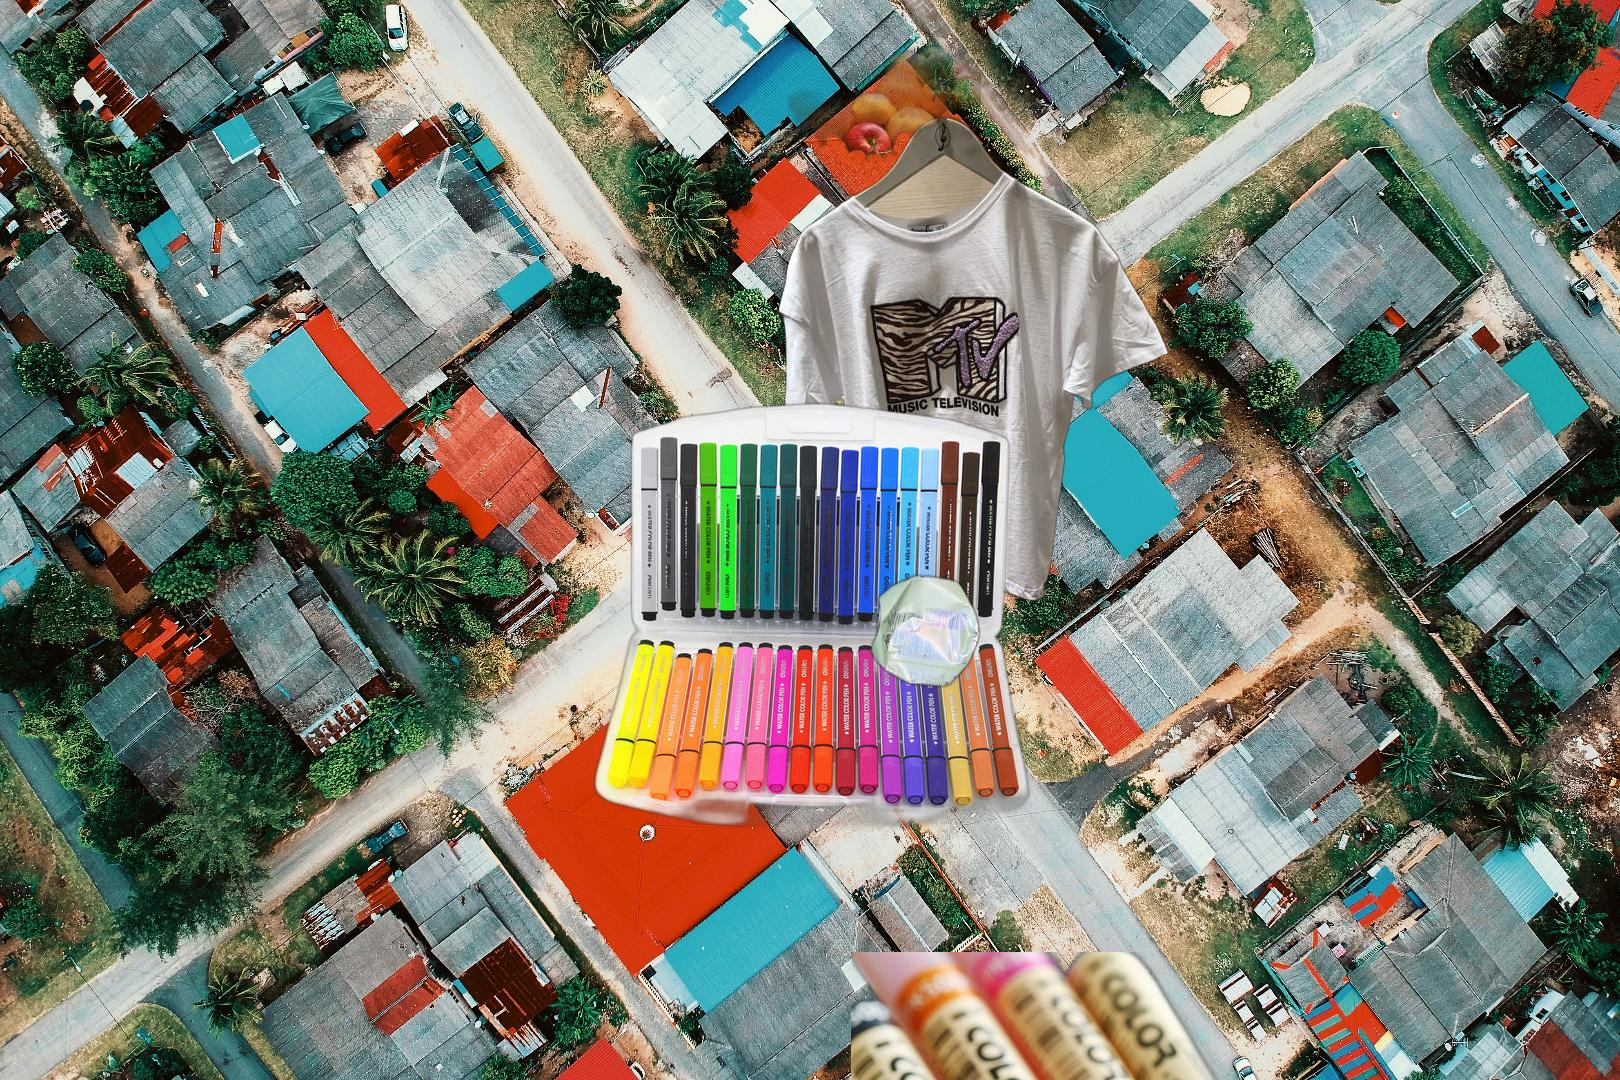biological: (706, 45, 981, 227)
clothes: (769, 86, 1169, 609)
metal-cans: (722, 569, 984, 979)
penholder: (591, 399, 1033, 856), (851, 952, 1314, 1080)
